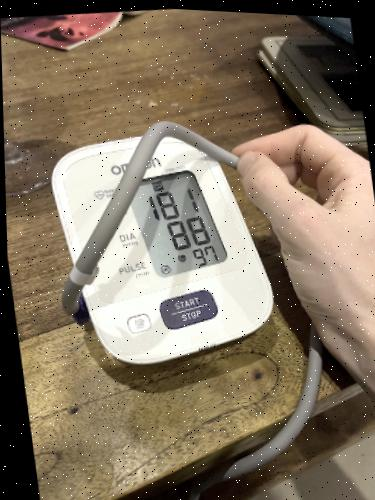bpm: (123, 158, 230, 283)
